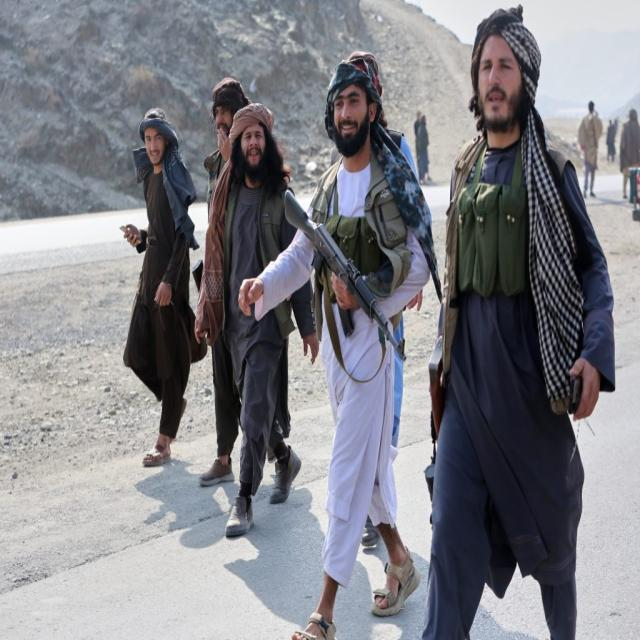Militant: (428, 15, 610, 640), (274, 34, 433, 640), (193, 57, 319, 550), (117, 95, 202, 482)
